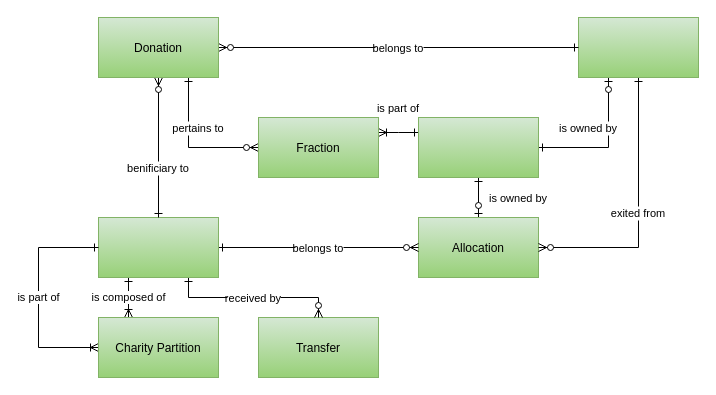
This 716x395 diagram has some shape labels left out. Each missing label, with the box of its shape:
Charity: (98, 216, 218, 278)
Fractionset: (418, 116, 538, 178)
Option: (578, 16, 698, 78)
